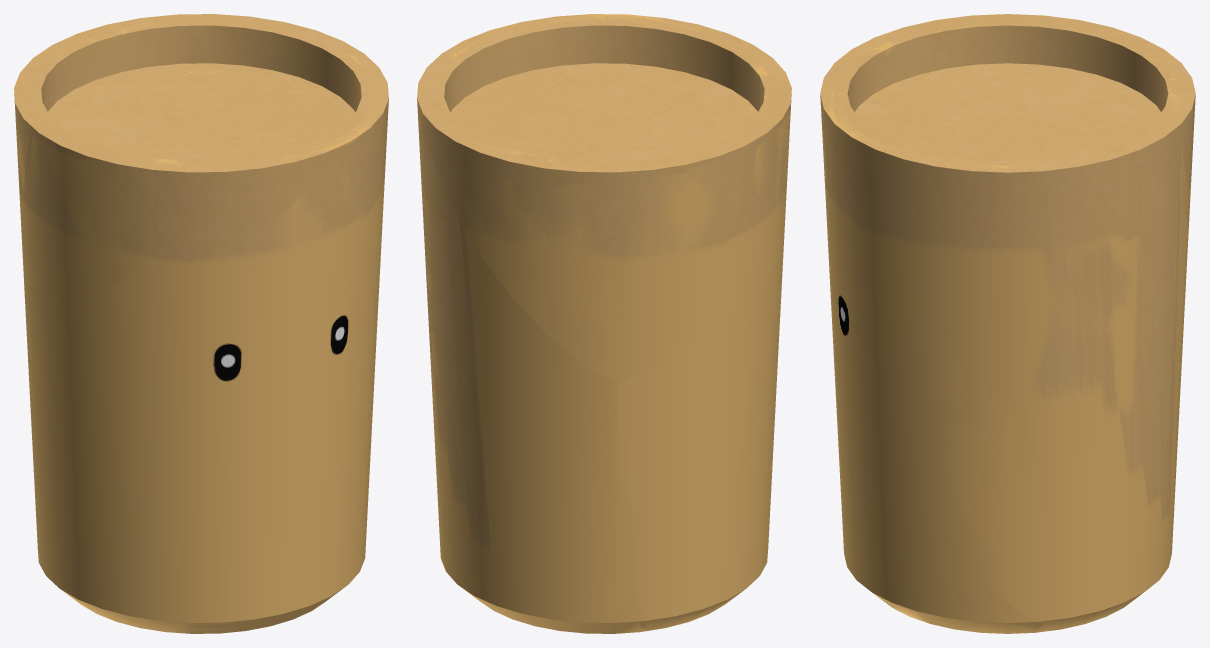
3 renders of one model, left to right at view 1: azimuth 30°, elevation 25°; view 2: azimuth 150°, elevation 25°; view 3: azimuth 270°, elevation 25°, orthographic.
Parts seen in each view (by area): view 1: Cylinder.004, Cylinder.004_cell.006, Cylinder.004_cell.005, Cylinder.004_cell.002, Cylinder.004_cell.004, Cylinder.004_cell.003; view 2: Cylinder.004, Cylinder.004_cell.004, Cylinder.004_cell.005, Cylinder.004_cell.003, Cylinder.004_cell.006, Cylinder.004_cell.002; view 3: Cylinder.004, Cylinder.004_cell.004, Cylinder.004_cell.005, Cylinder.004_cell.006, Cylinder.004_cell.
Boxes of the visible parts, x1,y1,x2,y2 form: Cylinder.004: (15, 19, 388, 633); Cylinder.004_cell.006: (21, 14, 388, 288); Cylinder.004_cell.005: (14, 14, 221, 251); Cylinder.004_cell.002: (109, 156, 355, 351); Cylinder.004_cell.004: (245, 25, 387, 127); Cylinder.004_cell.003: (24, 282, 66, 565); Cylinder.004: (417, 14, 791, 630); Cylinder.004_cell.004: (417, 29, 644, 633); Cylinder.004_cell.005: (433, 125, 756, 382); Cylinder.004_cell.003: (619, 264, 775, 631); Cylinder.004_cell.006: (417, 14, 791, 359); Cylinder.004_cell.002: (578, 52, 784, 232); Cylinder.004: (820, 14, 1195, 632); Cylinder.004_cell.004: (925, 161, 1188, 630); Cylinder.004_cell.005: (1026, 14, 1195, 233); Cylinder.004_cell.006: (822, 27, 1164, 183); Cylinder.004_cell: (944, 532, 1048, 633).
Size of the model in its own units: 398 by 582 by 398.
2 materials, 2 textured.
